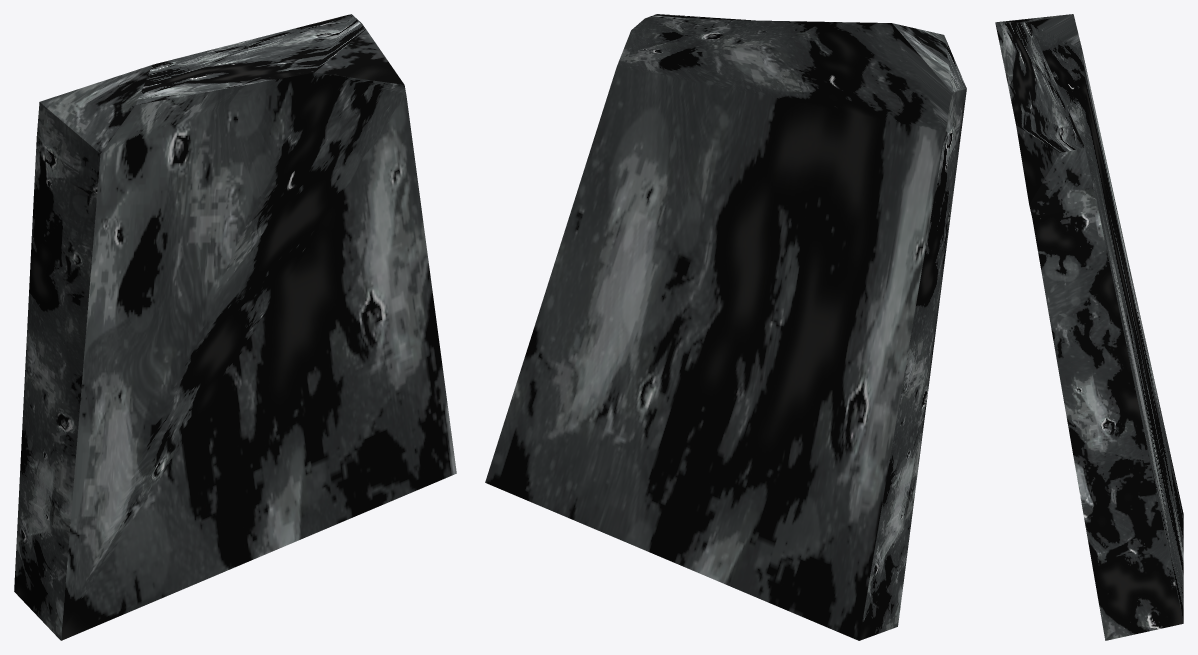
Rendered from Grave 2_New.fbx.
3 views of the same model, side by side, from view 1: azimuth 30°, elevation 25°; view 2: azimuth 150°, elevation 25°; view 3: azimuth 270°, elevation 25° (orthographic). The views are drawn at different scales.
Visible parts, largest first — view 1: Cube.002; view 2: Cube.002; view 3: Cube.002.
Boxes of the visible parts, <box> form: Cube.002: <box>14,14,456,640</box>; Cube.002: <box>485,14,966,640</box>; Cube.002: <box>995,14,1183,640</box>.
Bounding box in the file's own units: 83.54 × 109 × 35.16.
1 material, 1 textured.
